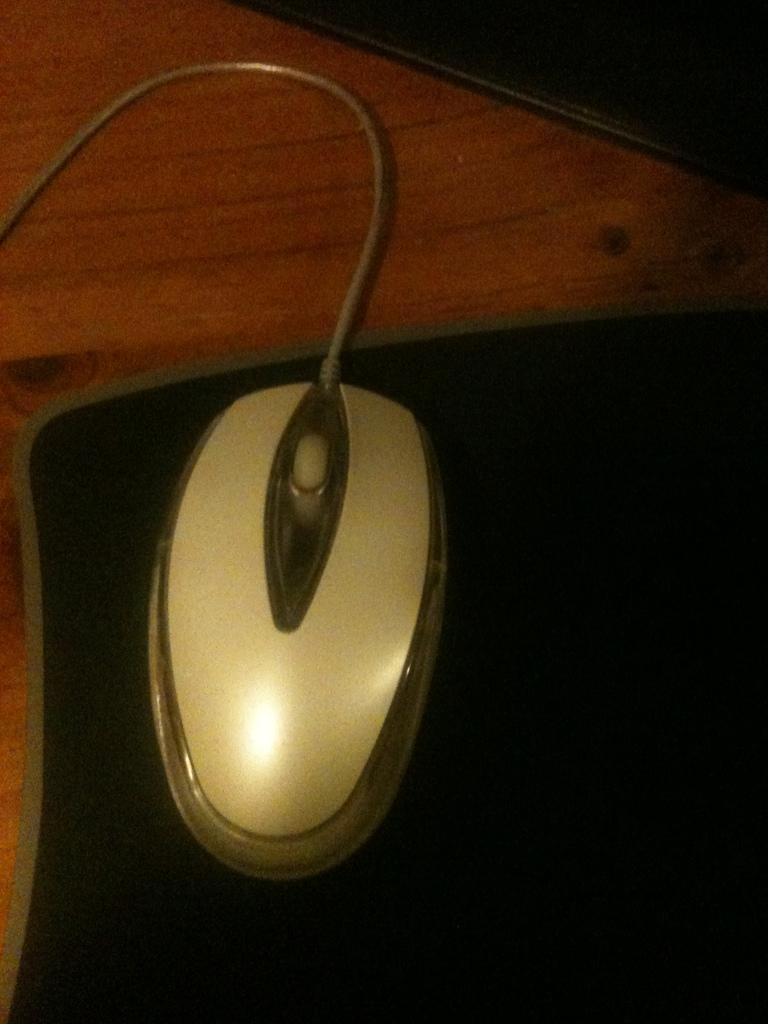Computer-mouse: (147, 378, 449, 874)
